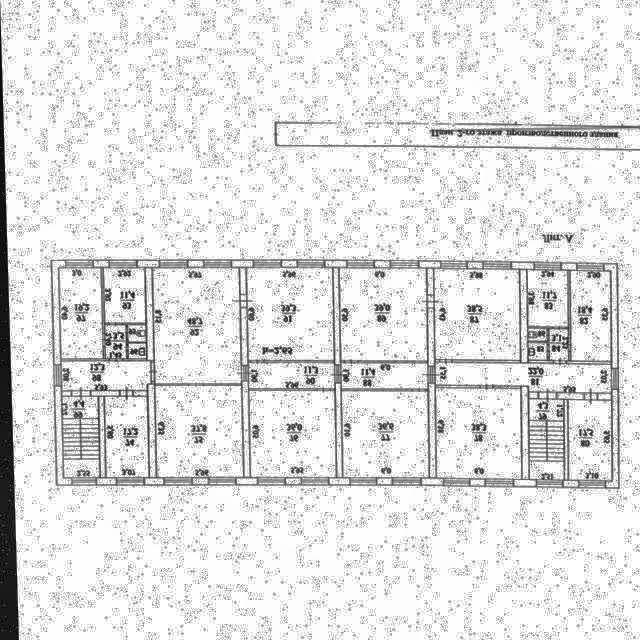room: (149, 267, 239, 383), (151, 384, 240, 479), (339, 266, 425, 362), (431, 269, 518, 362), (246, 267, 332, 361), (433, 388, 520, 479), (247, 389, 333, 479), (339, 391, 425, 479), (433, 362, 609, 393), (57, 267, 101, 359), (101, 395, 146, 479), (565, 399, 609, 481), (569, 271, 609, 361), (59, 396, 97, 479), (527, 399, 561, 480), (59, 360, 149, 390), (524, 270, 567, 327), (102, 267, 144, 323), (338, 363, 426, 388), (246, 363, 332, 388), (103, 324, 124, 358), (547, 329, 566, 360), (526, 343, 545, 360), (126, 325, 144, 342), (126, 343, 144, 358), (526, 329, 545, 341)
